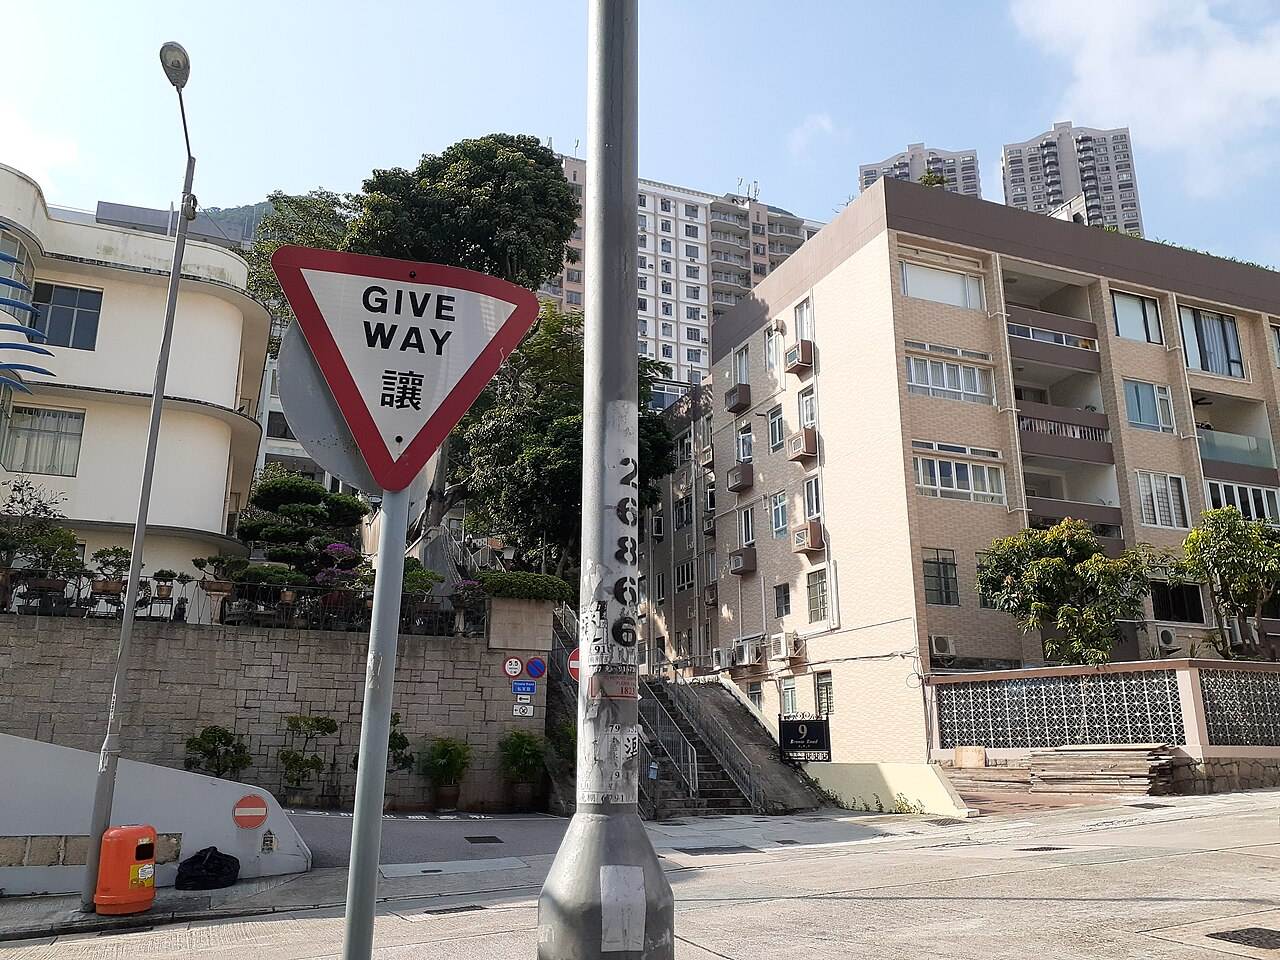Give Way: (265, 225, 550, 492)
No Enter: (227, 790, 270, 835)
No Parking: (527, 656, 547, 680)
